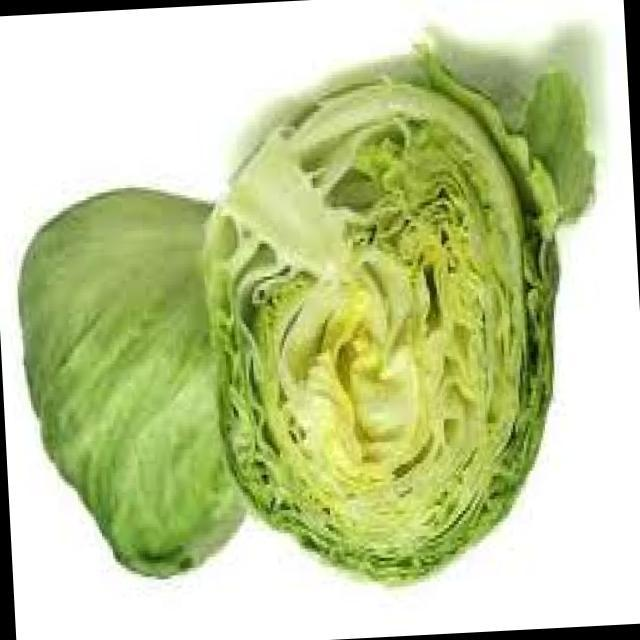Cabbage: (168, 34, 632, 610)
